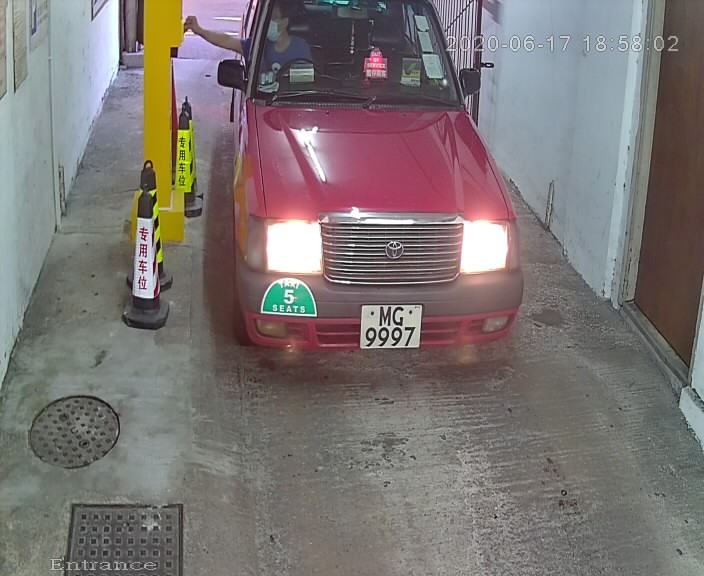taxi: (209, 2, 548, 375)
taxi_mark: (258, 275, 325, 325)
